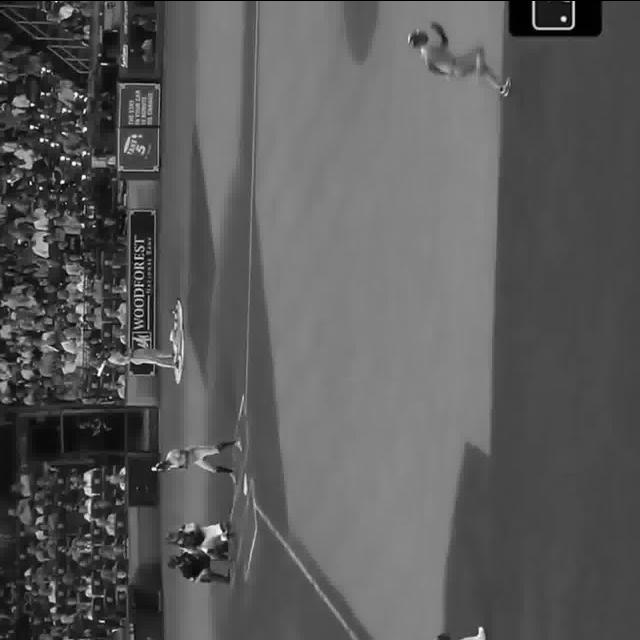base: (241, 473, 251, 495)
bat: (94, 335, 115, 377), (144, 461, 194, 471)
shoe: (494, 72, 512, 94), (220, 529, 237, 542), (236, 439, 246, 450), (230, 468, 238, 479)
